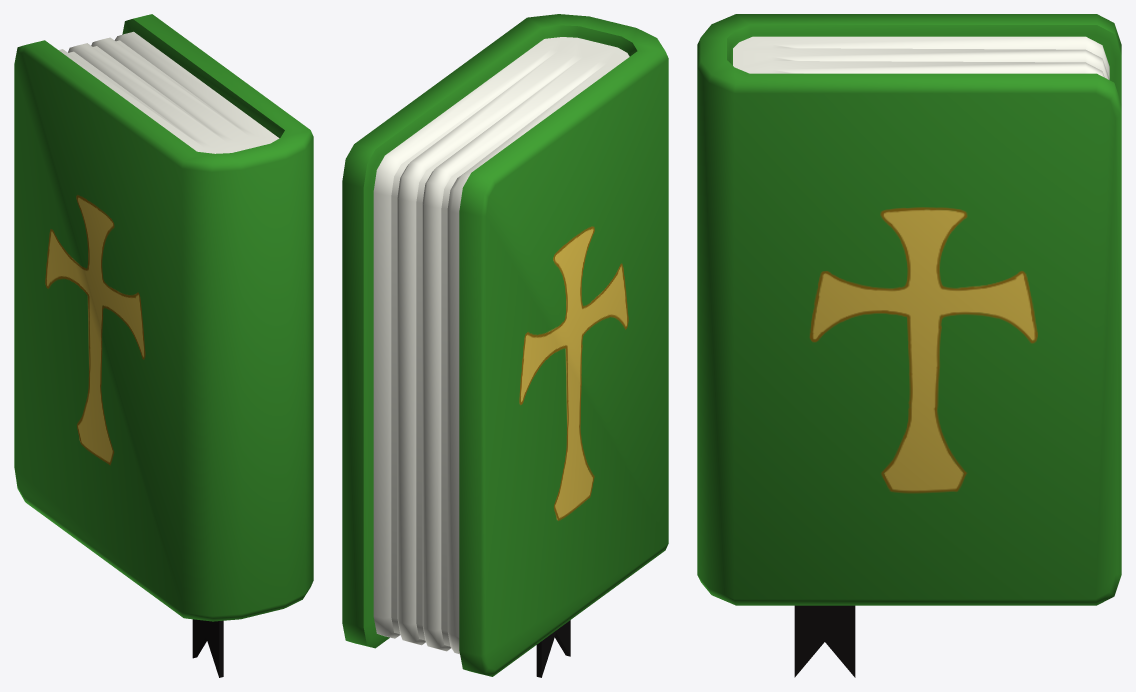
The model's file is BookC.fbx.
3 renders of one model, left to right at view 1: azimuth 30°, elevation 25°; view 2: azimuth 150°, elevation 25°; view 3: azimuth 270°, elevation 25°, orthographic. The views are drawn at different scales.
Visible parts, largest first — view 1: Book C; view 2: Book C; view 3: Book C.
Boxes of the visible parts, bbox=[...] form: Book C: bbox=[14, 14, 313, 677]; Book C: bbox=[342, 14, 668, 677]; Book C: bbox=[697, 14, 1121, 677].
Size of the model in its own units: 0.2134 by 0.8547 by 0.524.
